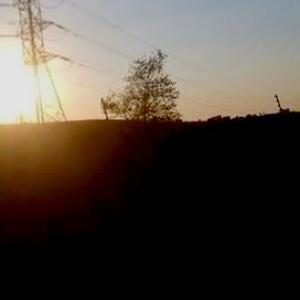follow: (161, 128, 225, 299)
